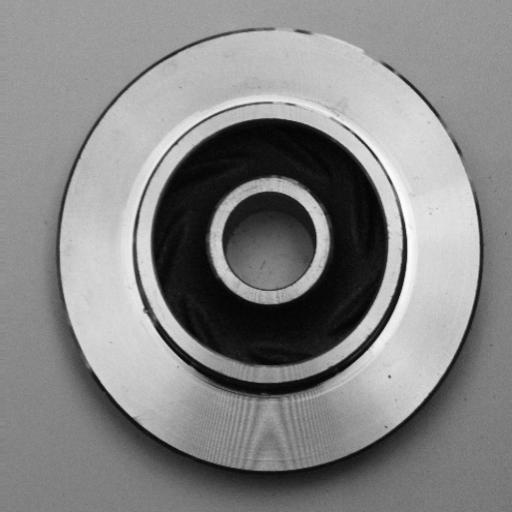scratch: (252, 85, 358, 125), (290, 19, 378, 64)
unpolished_casting: (53, 21, 485, 478)
